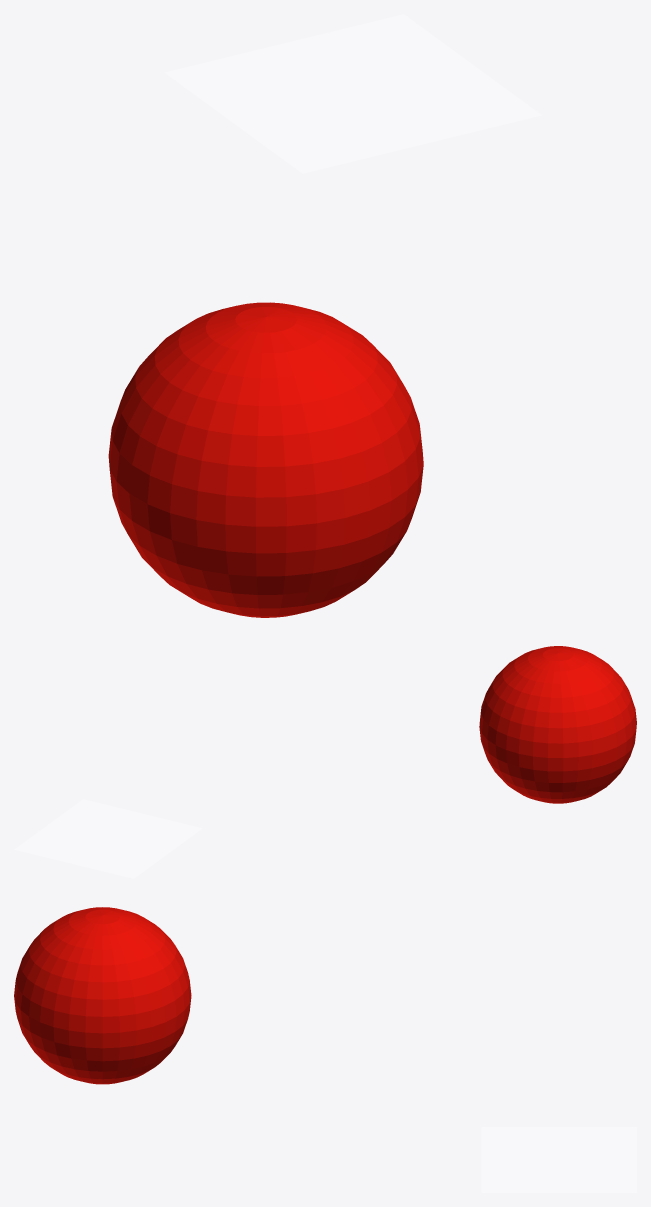
File: coeanwhite.glb
The picture shows the model from 3 angles, top to bottom: view 1: azimuth 30°, elevation 25°; view 2: azimuth 150°, elevation 25°; view 3: azimuth 270°, elevation 25°; orthographic projection. The views are drawn at different scales.
Visible parts, largest first — view 1: Sphere, Plane; view 2: Sphere, Plane; view 3: Sphere, Plane.
Part boxes in pixels (x1,y1,x2,y2): Sphere: (108, 302, 423, 617); Plane: (165, 14, 541, 173); Sphere: (479, 646, 636, 803); Plane: (15, 799, 201, 878); Sphere: (14, 907, 191, 1084); Plane: (481, 1127, 636, 1192).
Size of the model in its own units: 6.26 by 2.28 by 8.01.
